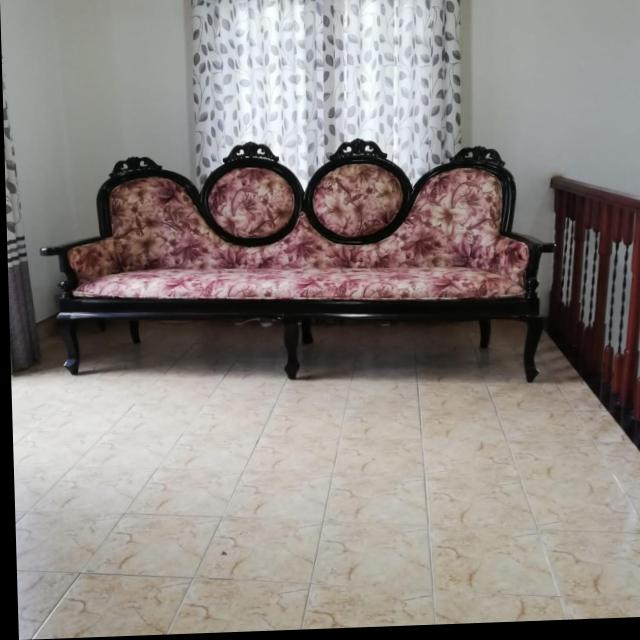Sofa: (36, 144, 559, 397)
